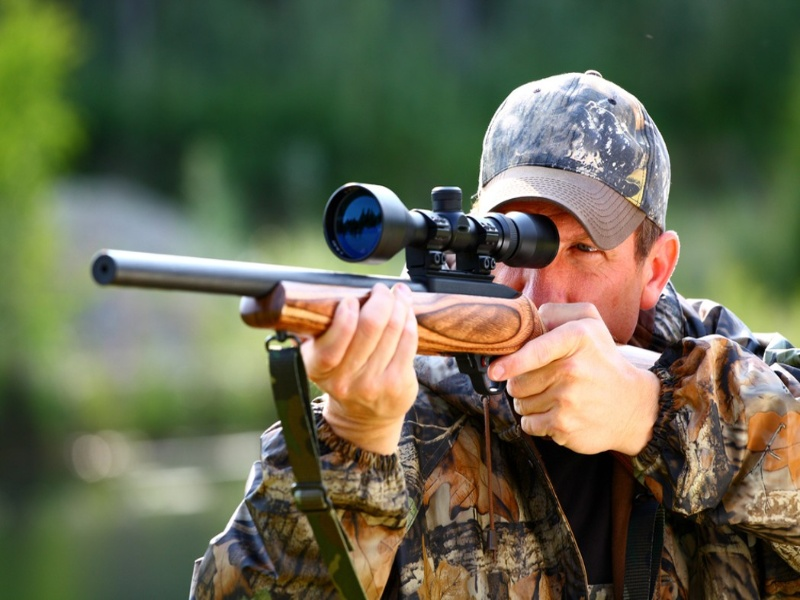person: (189, 69, 800, 600)
weapon: (92, 180, 661, 370)
